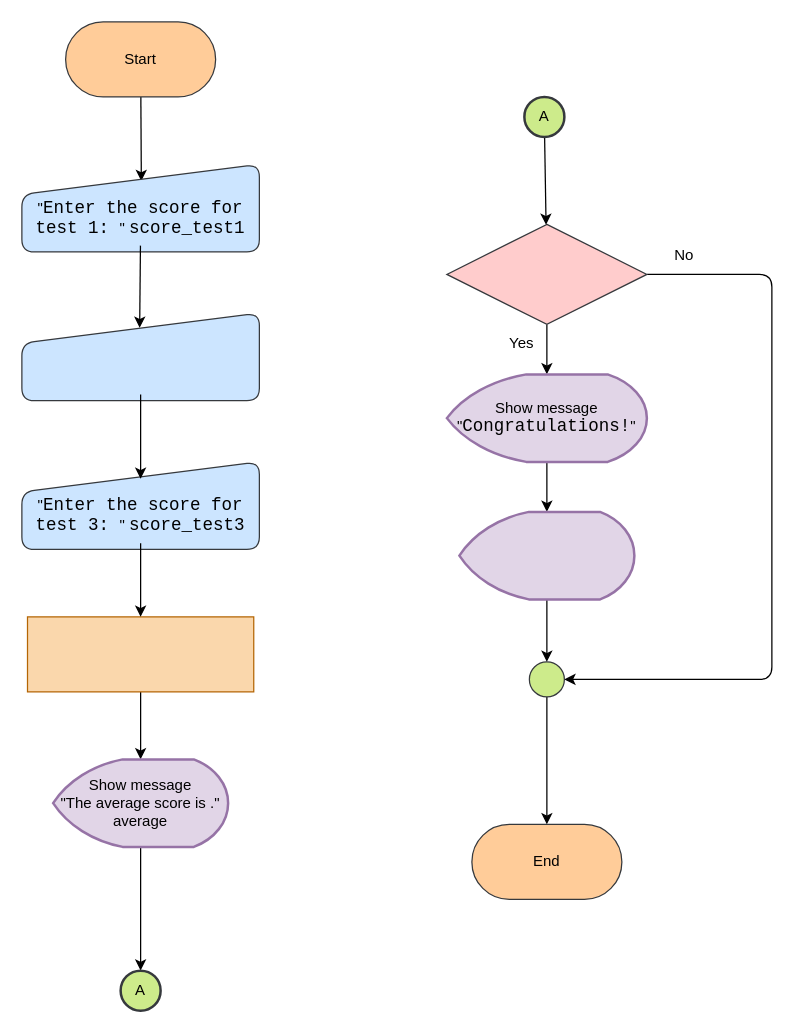
This 804x1034 diagram has some shape labels left out. Here are the shapes that lost their labels. From the top down, the box of each, then its label:
(446, 223, 647, 324): average > 95?
(21, 312, 259, 401): " Enter the score for test 2: " score_test2
(458, 510, 635, 600): Show message " That is a great average! "
(26, 616, 254, 692): average = ( score_test1 + score_test2 + score_test3)/3
